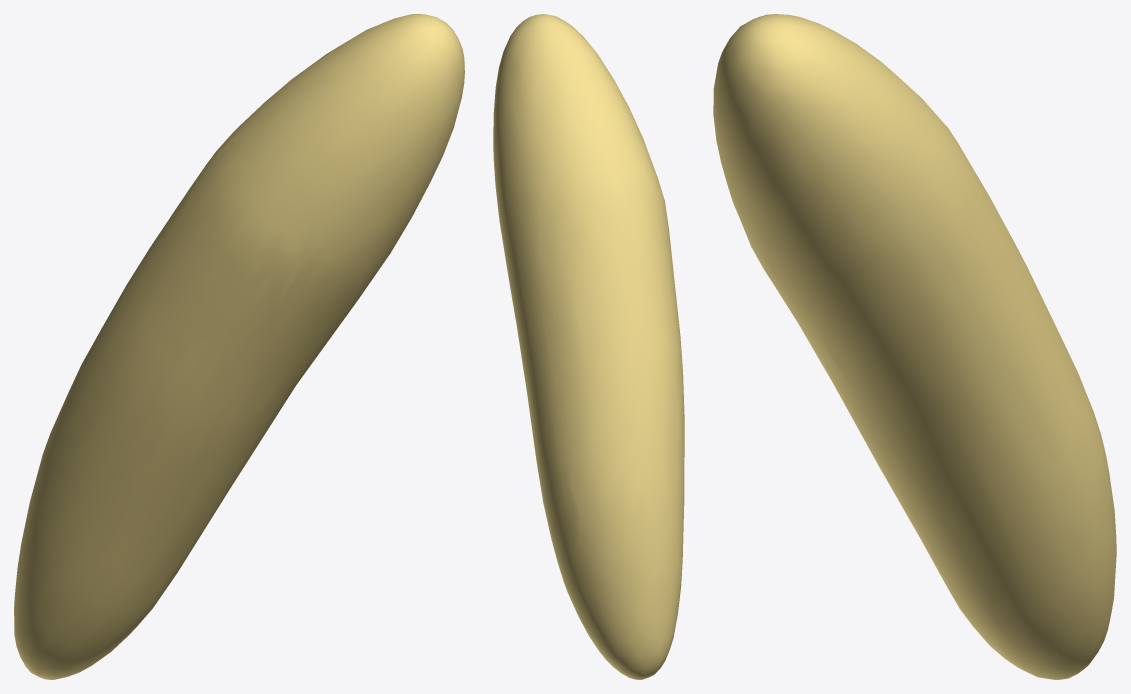
Rendered from fma73806_mm3525.glb.
The picture shows the model from 3 angles, left to right: view 1: azimuth 30°, elevation 25°; view 2: azimuth 150°, elevation 25°; view 3: azimuth 270°, elevation 25°; orthographic projection. The views are drawn at different scales.
Visible parts, largest first — view 1: FMA73806_MM3525; view 2: FMA73806_MM3525; view 3: FMA73806_MM3525.
Boxes of the visible parts, x1,y1,x2,y2 form: FMA73806_MM3525: (14, 14, 464, 679); FMA73806_MM3525: (493, 14, 684, 679); FMA73806_MM3525: (713, 14, 1116, 679).
Bounding box in the file's own units: 0.0056 × 0.0115 × 0.00528.
